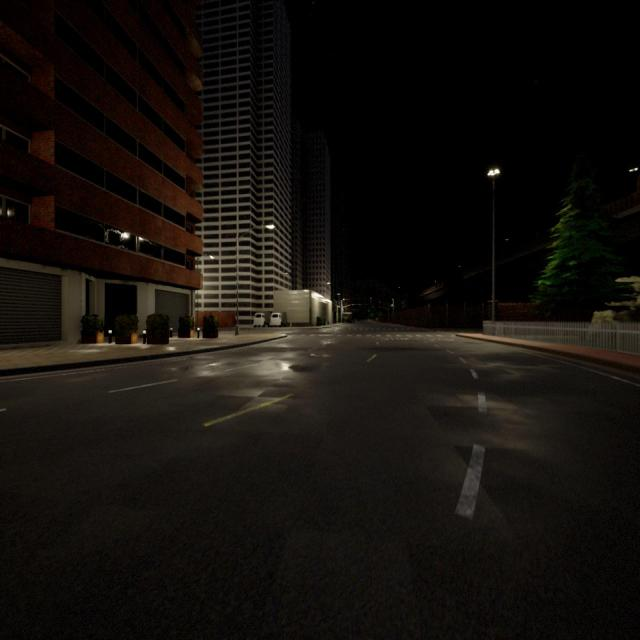Vehicle: (270, 312, 287, 328), (254, 312, 270, 328)
